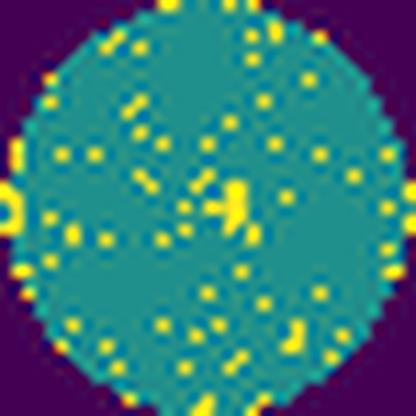Center: (187, 166, 249, 237)
